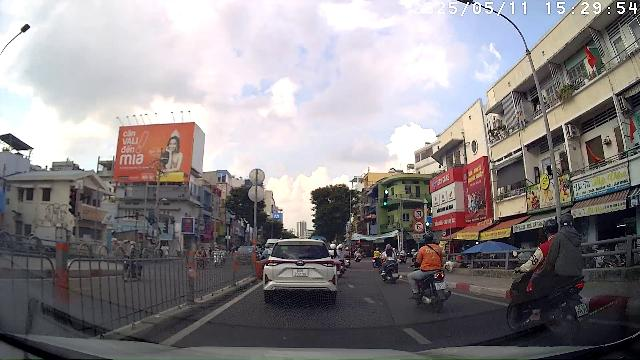103b-cam-oto-re-phai: (413, 221, 425, 233)
103c-cam-oto-re-trai: (413, 208, 424, 220)
